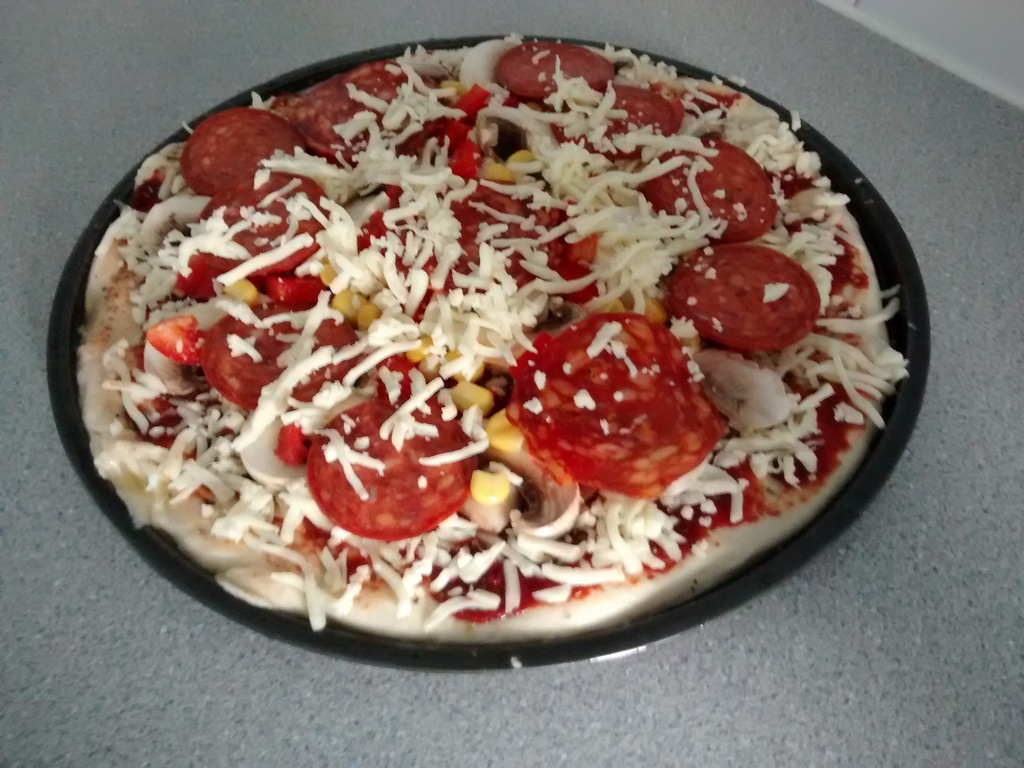Pizza: (69, 32, 908, 641)
